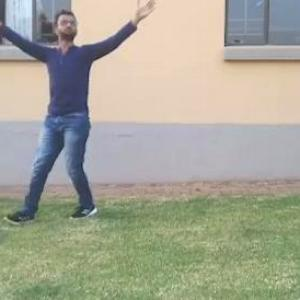takeoff: (1, 8, 152, 214)
